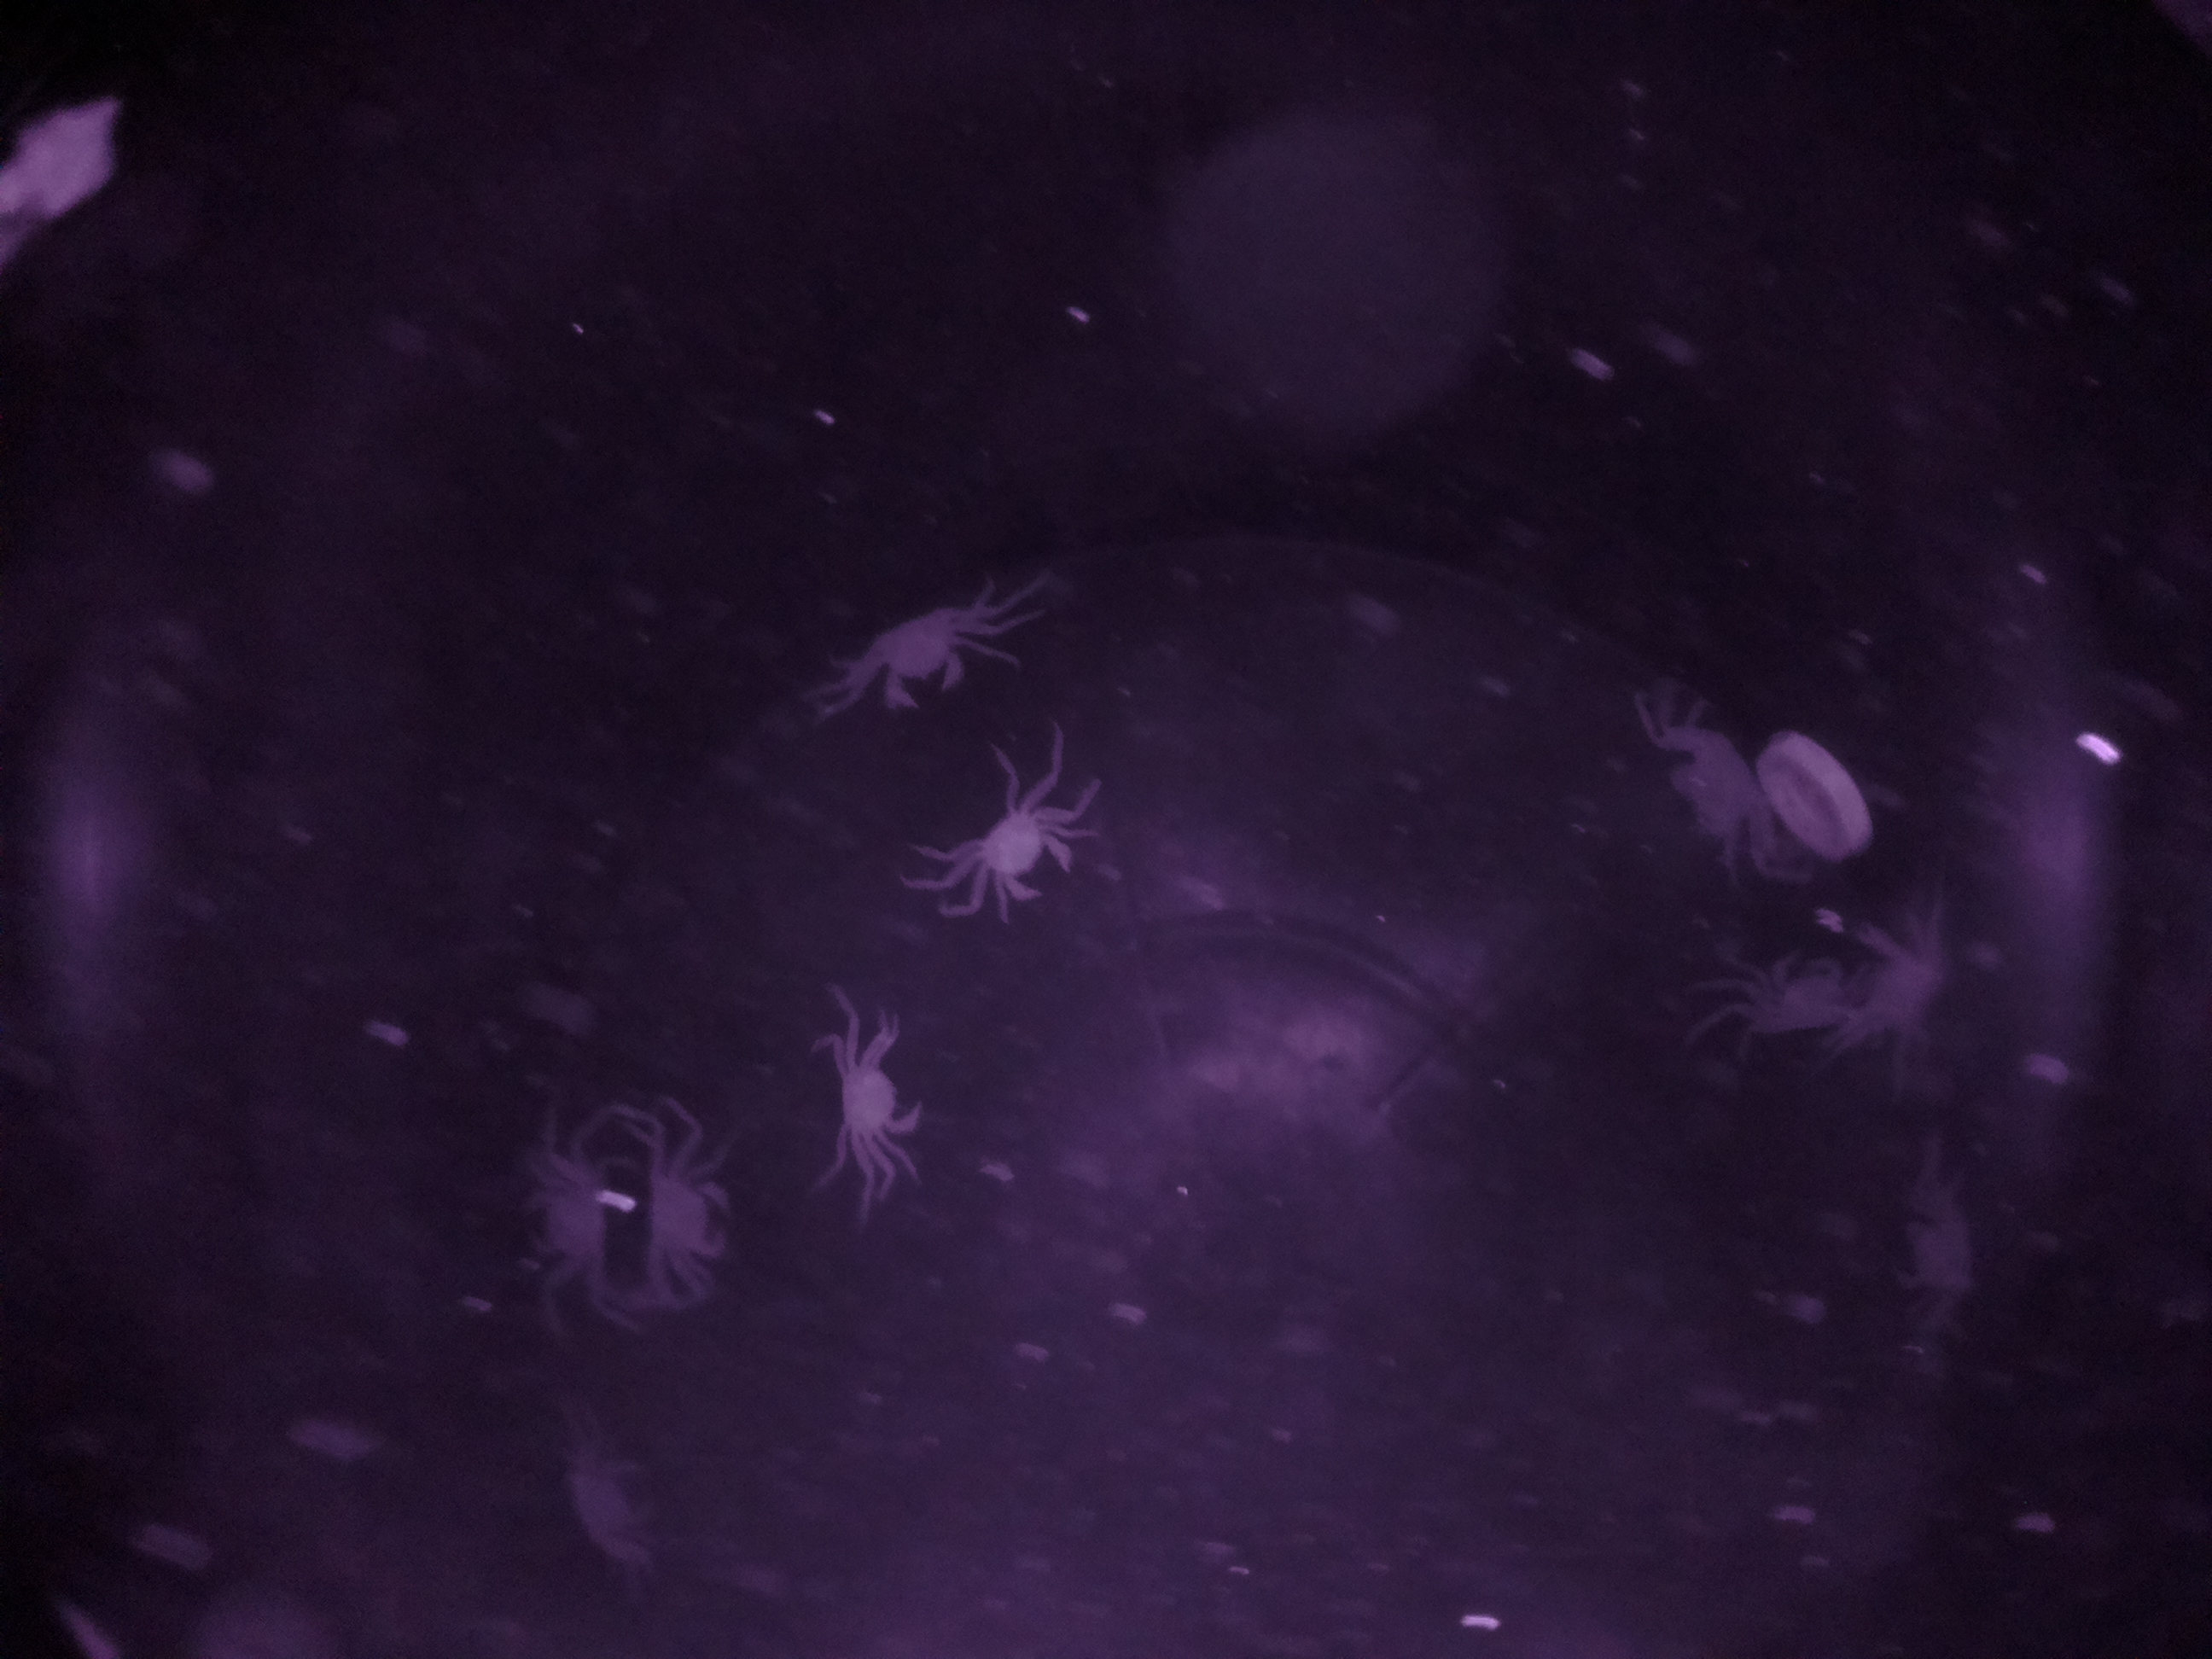Crab: (829, 575, 1010, 744), (796, 990, 954, 1171), (629, 1098, 756, 1310), (954, 772, 1094, 938)
